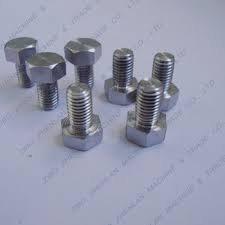metal: (121, 74, 173, 151), (59, 76, 104, 156), (22, 49, 65, 117), (59, 31, 105, 93), (102, 43, 144, 107), (146, 47, 182, 113), (4, 33, 40, 91)
